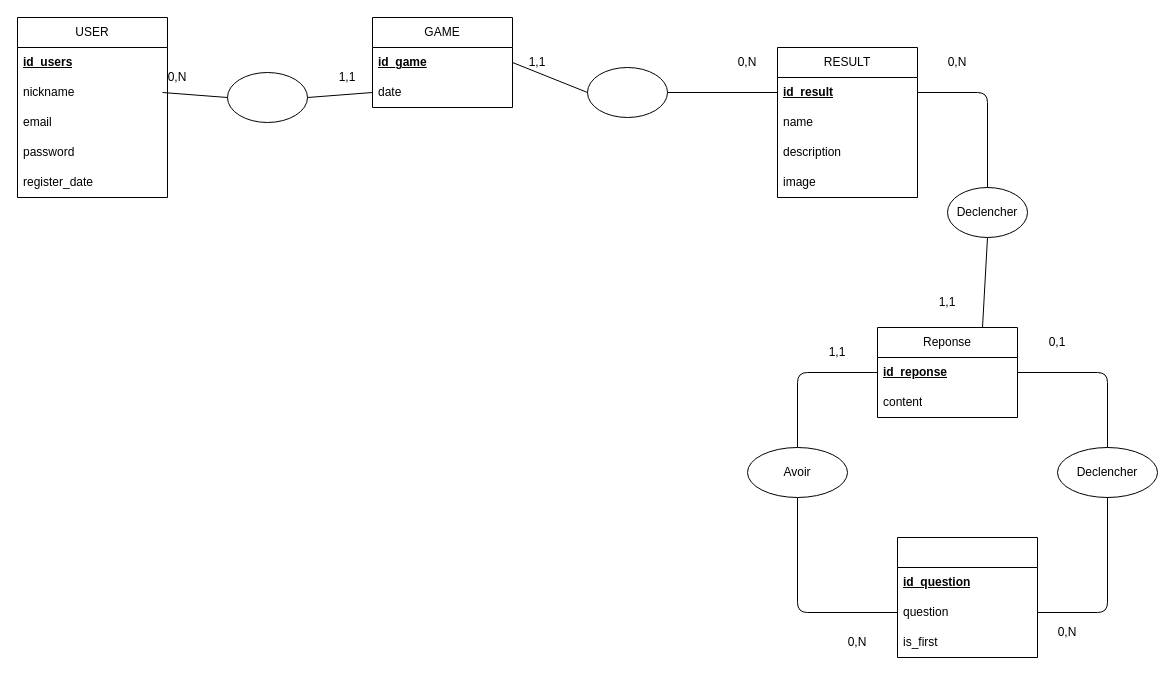
Image size: 1175x675. Some labels were removed from this diagram. Here are the shapes that lost their labels. From the top down, the box of each, then its label:
(226, 72, 308, 122): JOUER
(586, 66, 668, 118): Faire Deviner
(896, 536, 1038, 658): Questions
